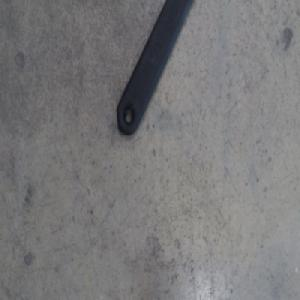AdjustableWrench: (116, 0, 192, 135)
